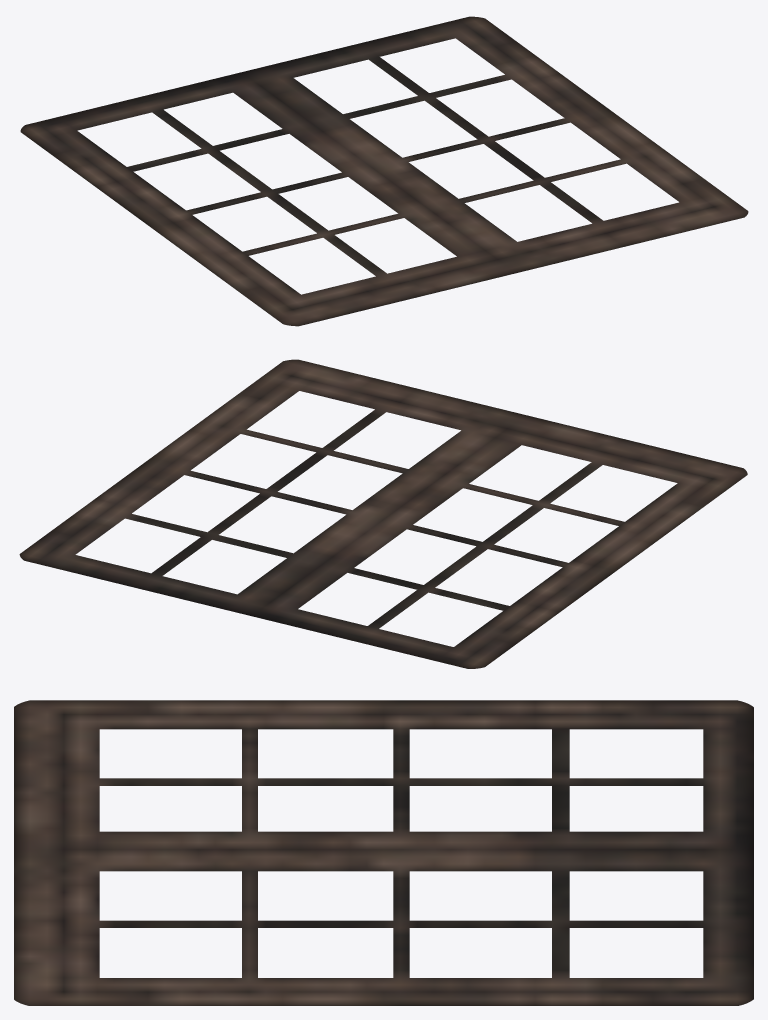
File: SM_EC_House_Windows_0.fbx
3 renders of one model, top to bottom at view 1: azimuth 30°, elevation 25°; view 2: azimuth 150°, elevation 25°; view 3: azimuth 270°, elevation 25°, orthographic. The views are drawn at different scales.
Visible parts, largest first — view 1: SM_EC_House_Windows_0; view 2: SM_EC_House_Windows_0; view 3: SM_EC_House_Windows_0.
Part boxes in pixels (box(x1,y1,x2,y2)): SM_EC_House_Windows_0: box(20, 16, 748, 326); SM_EC_House_Windows_0: box(19, 359, 747, 668); SM_EC_House_Windows_0: box(14, 700, 753, 1005).
Bounding box in the file's own units: 1.34 × 1.37 × 0.
